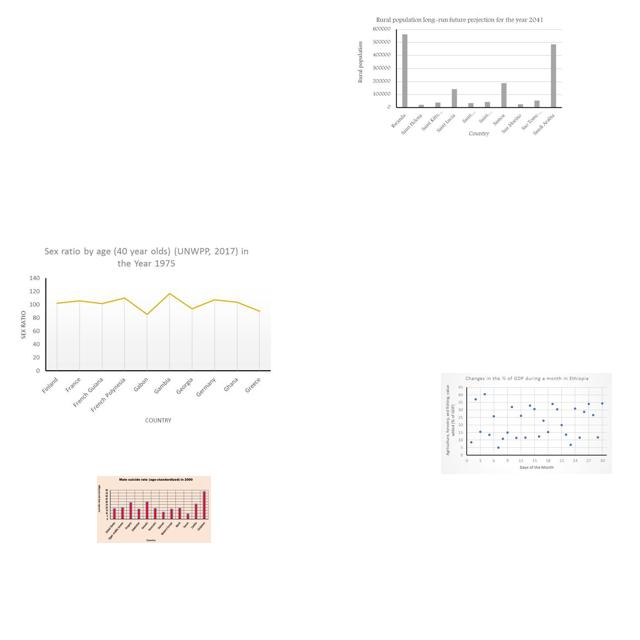Graph: (14, 243, 274, 424), (355, 14, 564, 138), (441, 373, 612, 474), (97, 476, 211, 543)
